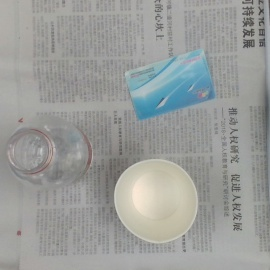bottle: (6, 115, 92, 193)
card: (125, 50, 216, 119)
cup: (113, 159, 198, 244)
